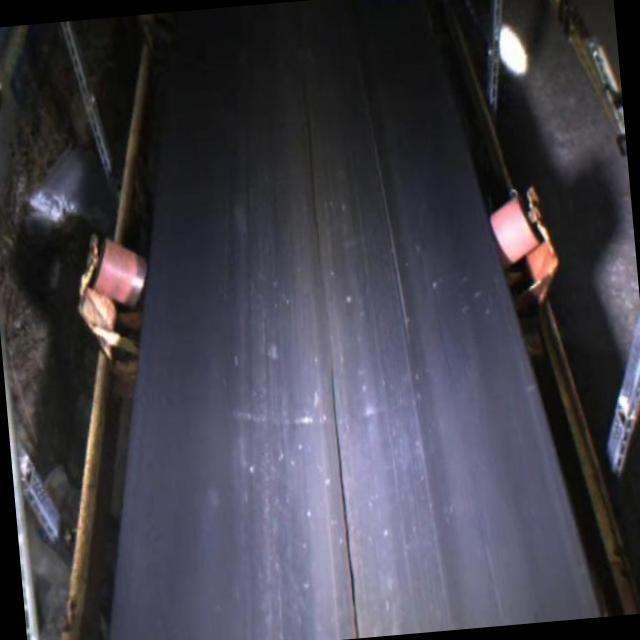Tear: (325, 356, 368, 640), (290, 66, 332, 276)
